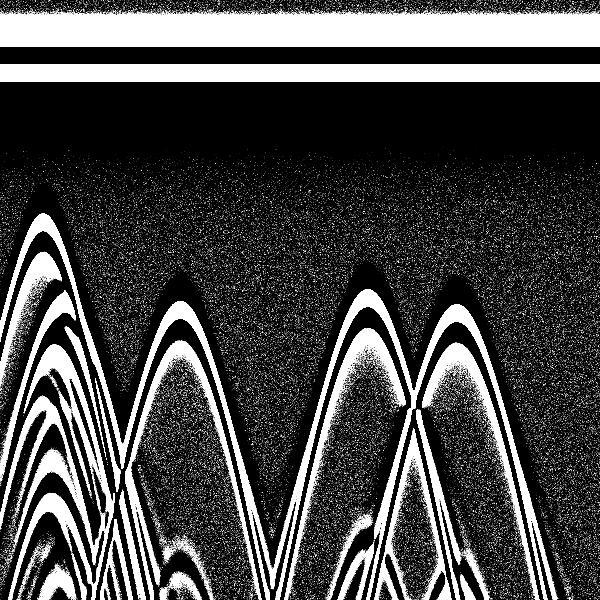pipe: (128, 8, 239, 390), (407, 3, 509, 381), (15, 10, 117, 373), (317, 7, 416, 372), (1, 5, 84, 303)
